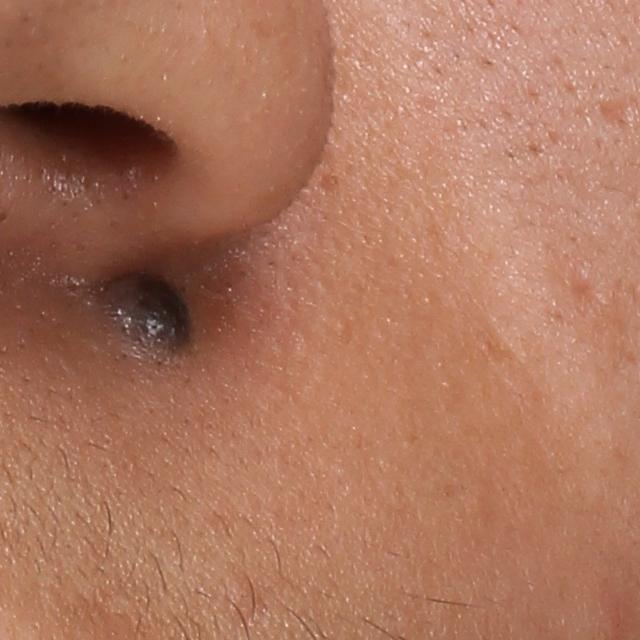atrophic_scar: (595, 95, 637, 134), (566, 272, 601, 311)
nevus: (96, 257, 202, 374)
